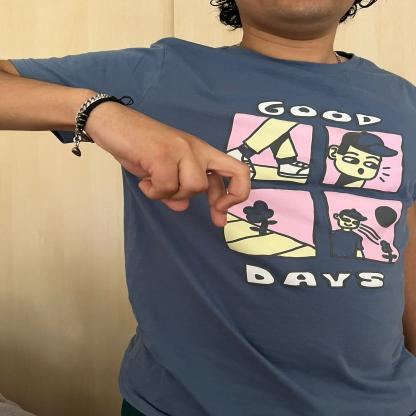P: (75, 79, 259, 230)
